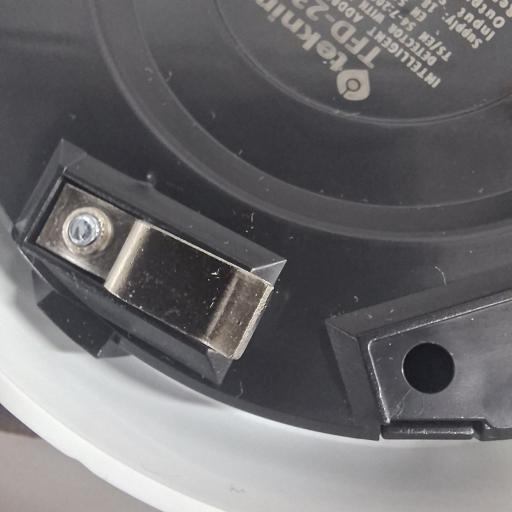yaysiz: (29, 182, 293, 378)
